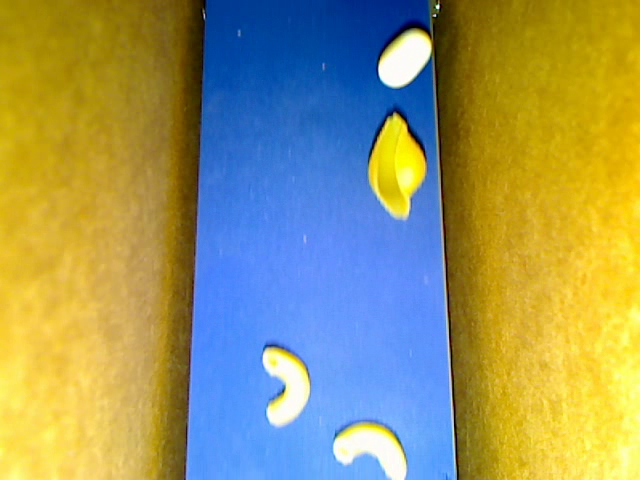elbow: (332, 421, 407, 479), (261, 346, 310, 426)
shell: (366, 112, 425, 220)
